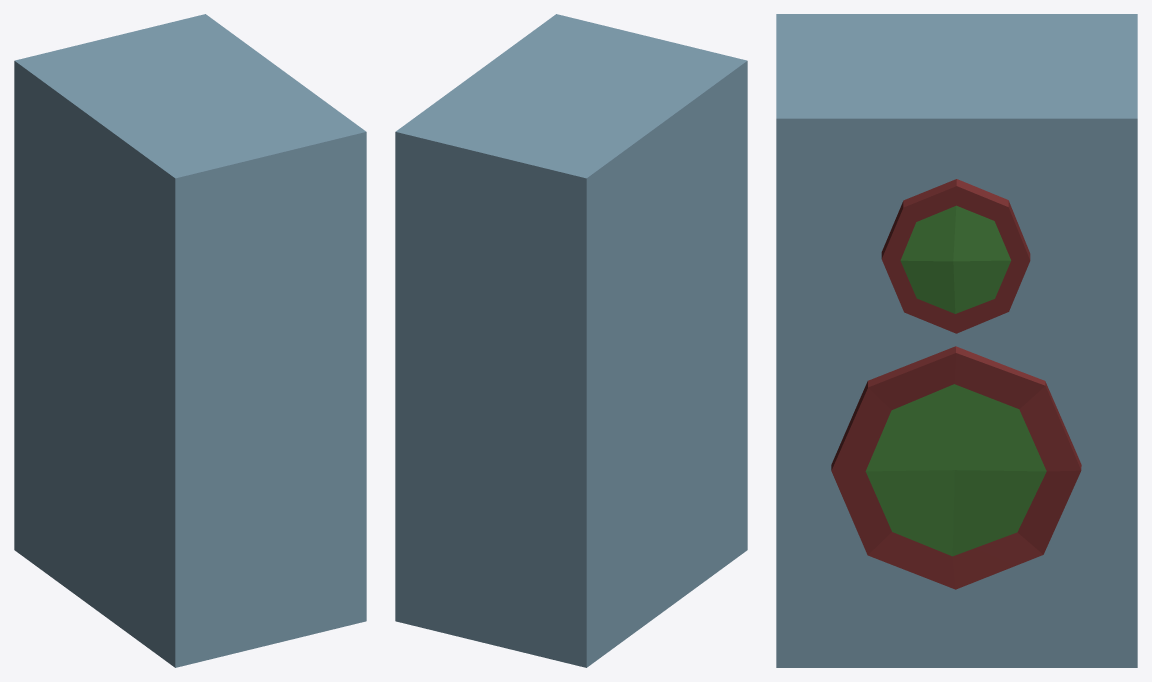
Rendered from Gym_Speakers.fbx.
3 views of the same model, side by side, from view 1: azimuth 30°, elevation 25°; view 2: azimuth 150°, elevation 25°; view 3: azimuth 270°, elevation 25° (orthographic). The views are drawn at different scales.
Visible parts, largest first — view 1: Gym_Speakers; view 2: Gym_Speakers; view 3: Gym_Speakers.
Part boxes in pixels (x1,y1,x2,y2): Gym_Speakers: (14,14,366,667); Gym_Speakers: (395,14,747,667); Gym_Speakers: (776,14,1137,667).
Bounding box in the file's own units: 32.71 × 72.7 × 43.33.
